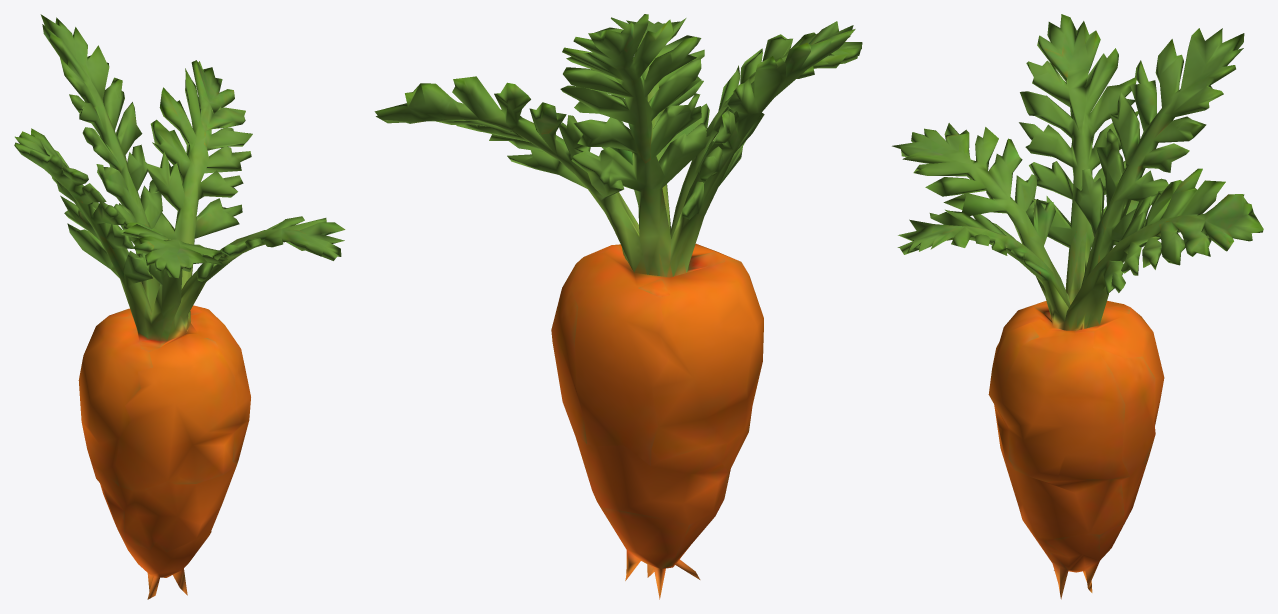
Rendered from carrot_l2.glb.
3 renders of one model, left to right at view 1: azimuth 30°, elevation 25°; view 2: azimuth 150°, elevation 25°; view 3: azimuth 270°, elevation 25°, orthographic. The views are drawn at different scales.
Parts seen in each view (by area): view 1: tripo_node_b251bc0d-c480-4494-8b14-11b0a0f4448c; view 2: tripo_node_b251bc0d-c480-4494-8b14-11b0a0f4448c; view 3: tripo_node_b251bc0d-c480-4494-8b14-11b0a0f4448c.
Boxes of the visible parts, x1=… form: tripo_node_b251bc0d-c480-4494-8b14-11b0a0f4448c: x1=14, y1=14, x2=345, y2=599; tripo_node_b251bc0d-c480-4494-8b14-11b0a0f4448c: x1=374, y1=14, x2=862, y2=599; tripo_node_b251bc0d-c480-4494-8b14-11b0a0f4448c: x1=892, y1=14, x2=1263, y2=599.
Size of the model in its own units: 0.5783 by 0.9782 by 0.6107.
Materials: 1 (1 with a texture image).
